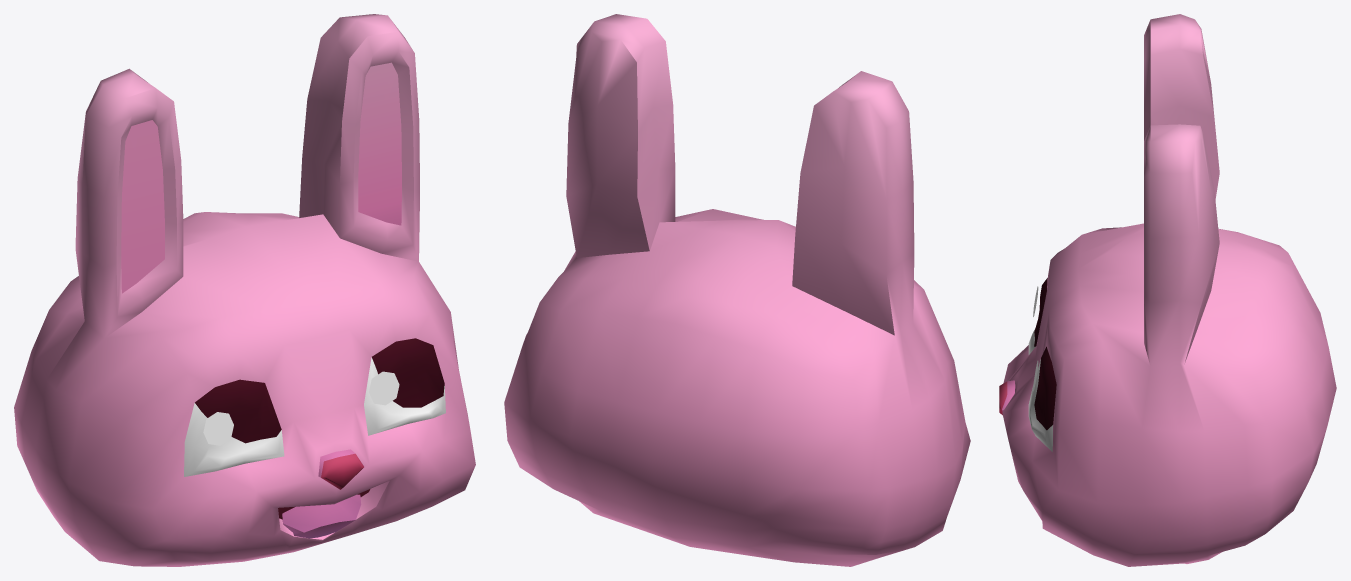
The model's file is bunny_head_single.fbx.
The picture shows the model from 3 angles, left to right: view 1: azimuth 30°, elevation 25°; view 2: azimuth 150°, elevation 25°; view 3: azimuth 270°, elevation 25°; orthographic projection. The views are drawn at different scales.
Parts seen in each view (by area): view 1: villager_head.001; view 2: villager_head.001; view 3: villager_head.001.
Part boxes in pixels (x1,y1,x2,y2): villager_head.001: (14,14,475,566); villager_head.001: (504,14,970,566); villager_head.001: (999,14,1336,566).
Size of the model in its own units: 0.5654 by 0.647 by 0.4511.
1 material, 1 textured.
